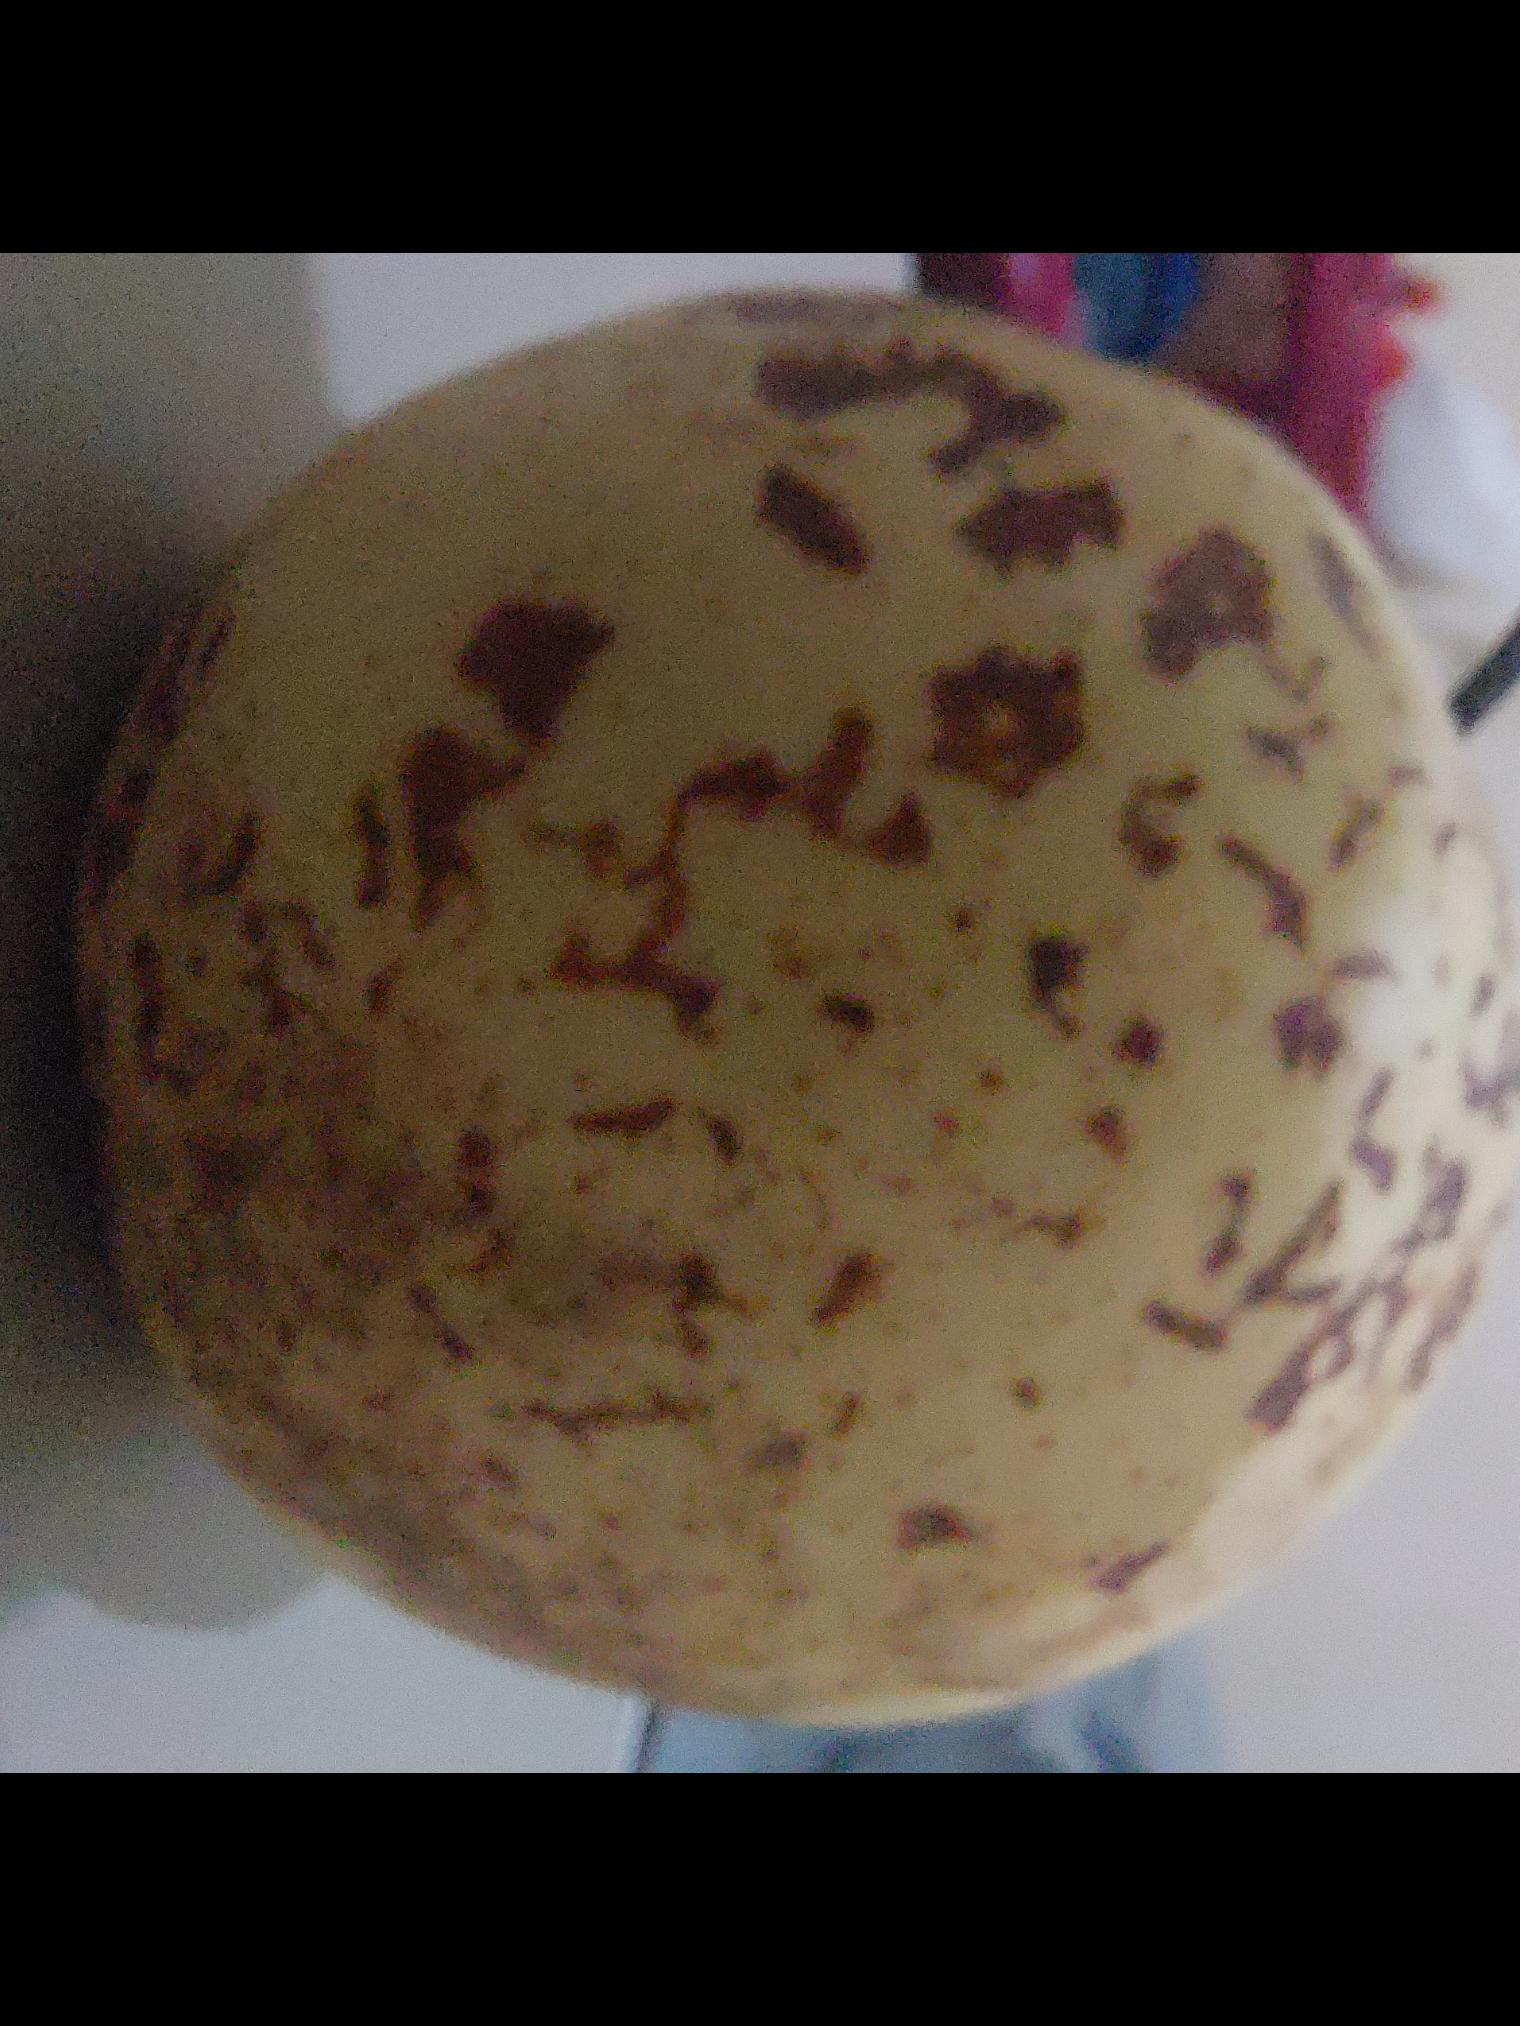Bad Pear: (18, 252, 1520, 1748)
